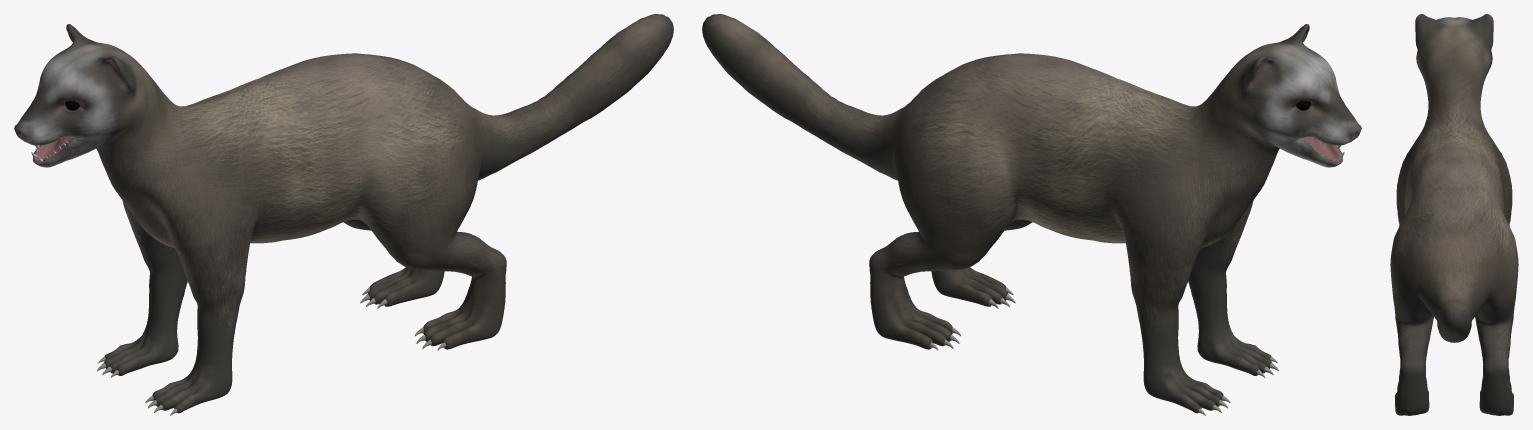
File: mongoose.glb
3 views of the same model, side by side, from view 1: azimuth 30°, elevation 25°; view 2: azimuth 150°, elevation 25°; view 3: azimuth 270°, elevation 25° (orthographic). The views are drawn at different scales.
Parts seen in each view (by area): view 1: Moongoose; view 2: Moongoose; view 3: Moongoose.
Part boxes in pixels (x1=…): Moongoose: x1=14, y1=14, x2=673, y2=413; Moongoose: x1=702, y1=14, x2=1361, y2=413; Moongoose: x1=1390, y1=14, x2=1518, y2=415.
Size of the model in its own units: 10.25 by 5.37 by 2.31.
Materials: 4 (1 with a texture image).
